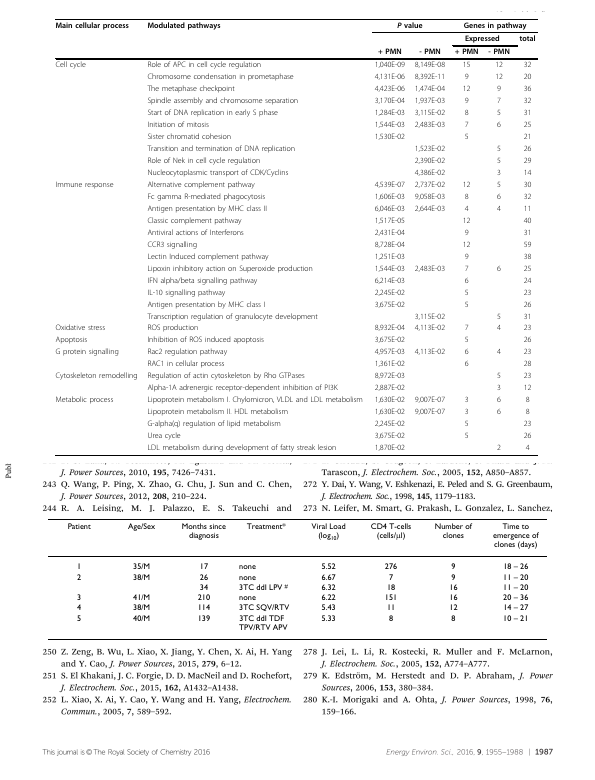borderless: (54, 17, 538, 455), (47, 517, 547, 639)
cell: (146, 395, 364, 405), (146, 383, 339, 393), (146, 443, 337, 453), (146, 371, 306, 381), (146, 312, 319, 321), (146, 96, 299, 106), (146, 264, 314, 273), (146, 144, 296, 154), (146, 168, 289, 178), (146, 407, 289, 417), (491, 521, 539, 550), (146, 419, 282, 429), (146, 73, 295, 82), (146, 108, 279, 118), (146, 204, 268, 214), (146, 192, 266, 202), (146, 156, 261, 166), (146, 252, 269, 261), (146, 180, 256, 190), (146, 300, 266, 309), (146, 336, 265, 345), (146, 61, 262, 70), (146, 276, 258, 285), (146, 216, 242, 226), (238, 613, 288, 632), (369, 520, 412, 542), (146, 84, 236, 94), (146, 228, 245, 237), (180, 521, 226, 540), (146, 132, 232, 142), (54, 371, 139, 381), (146, 347, 228, 357), (146, 359, 225, 369), (310, 521, 346, 542), (433, 521, 472, 540), (146, 288, 226, 297), (55, 21, 130, 30), (146, 21, 221, 30), (54, 347, 120, 357), (146, 120, 210, 130), (54, 180, 114, 190), (54, 395, 114, 405), (463, 21, 527, 30), (238, 603, 290, 613), (238, 582, 288, 592), (146, 324, 199, 333), (146, 240, 198, 249), (54, 324, 106, 333), (245, 521, 286, 531), (464, 34, 501, 44), (146, 431, 182, 441), (374, 84, 406, 94), (414, 84, 446, 94), (374, 96, 406, 106), (414, 96, 446, 106), (374, 108, 406, 118), (414, 108, 446, 118), (374, 120, 406, 130), (414, 120, 446, 130), (374, 132, 406, 142), (414, 144, 446, 154), (414, 156, 446, 166), (414, 168, 446, 178), (374, 180, 406, 190), (414, 180, 446, 190), (374, 192, 406, 202), (414, 192, 446, 202), (374, 204, 406, 214), (414, 204, 446, 214), (374, 216, 406, 226), (374, 347, 406, 357), (414, 347, 446, 357), (374, 359, 406, 369), (374, 371, 406, 381), (374, 383, 406, 393), (374, 395, 406, 405), (414, 395, 446, 405), (374, 407, 406, 417), (414, 407, 446, 417), (374, 419, 406, 429), (374, 431, 406, 441), (374, 443, 406, 453), (54, 336, 88, 345), (126, 521, 156, 531), (54, 61, 87, 70), (374, 61, 406, 70), (414, 61, 446, 70), (374, 73, 406, 82), (414, 73, 446, 82), (374, 228, 406, 237), (374, 240, 406, 249), (374, 252, 406, 261), (374, 264, 406, 273), (414, 264, 446, 273), (374, 276, 406, 285), (374, 288, 406, 297), (374, 300, 406, 309), (414, 312, 446, 321), (374, 324, 406, 333), (414, 324, 446, 333), (374, 336, 406, 345), (502, 562, 529, 572), (502, 572, 529, 582), (502, 593, 529, 603), (502, 603, 529, 613), (502, 613, 529, 623), (377, 47, 403, 57), (66, 521, 91, 531), (454, 47, 479, 57), (502, 583, 529, 592), (396, 21, 423, 30), (487, 47, 511, 57), (418, 47, 441, 57), (132, 562, 151, 572), (132, 572, 151, 582), (132, 593, 151, 603), (132, 603, 151, 613), (132, 613, 151, 623), (238, 562, 256, 572), (238, 572, 256, 582), (238, 593, 256, 603), (519, 34, 536, 44), (320, 562, 336, 572), (320, 572, 336, 582), (320, 593, 336, 603), (320, 603, 336, 613), (320, 613, 336, 623), (383, 562, 398, 572), (196, 593, 211, 603), (383, 593, 398, 603), (196, 603, 211, 613), (196, 613, 211, 623), (320, 583, 336, 592), (198, 562, 209, 572), (198, 572, 209, 582), (385, 603, 396, 613), (448, 593, 458, 603), (448, 603, 458, 613), (198, 583, 209, 592), (385, 583, 396, 592), (448, 583, 458, 592), (494, 61, 504, 70), (494, 73, 504, 82), (462, 84, 471, 94), (523, 84, 532, 94), (523, 96, 532, 106), (523, 108, 532, 118), (523, 120, 532, 130), (523, 132, 532, 142), (523, 144, 532, 154), (523, 156, 532, 166), (523, 168, 532, 178), (462, 180, 471, 190), (523, 180, 532, 190), (523, 192, 532, 202), (523, 204, 532, 214), (462, 216, 471, 226), (523, 216, 532, 226), (523, 347, 532, 357), (523, 359, 532, 369), (523, 371, 532, 381), (523, 383, 532, 393), (523, 419, 532, 429), (523, 431, 532, 441), (462, 61, 471, 70), (523, 61, 532, 70), (523, 73, 532, 82), (523, 228, 532, 237), (462, 240, 471, 249), (523, 240, 532, 249), (523, 252, 532, 261), (523, 264, 532, 273), (523, 276, 532, 285), (523, 288, 532, 297), (523, 300, 532, 309), (523, 312, 532, 321), (523, 324, 532, 333), (523, 336, 532, 345), (387, 572, 394, 582), (387, 613, 394, 623), (76, 562, 82, 572), (450, 562, 456, 572), (76, 572, 82, 582), (450, 572, 456, 582), (76, 593, 82, 603), (76, 603, 82, 613), (76, 613, 82, 623), (450, 613, 456, 623), (496, 84, 502, 94), (496, 96, 502, 106), (496, 108, 502, 118), (496, 120, 502, 130), (496, 144, 502, 154), (496, 156, 502, 166), (496, 168, 502, 178), (496, 180, 502, 190), (496, 192, 502, 202), (496, 204, 502, 214), (496, 347, 502, 357), (496, 371, 502, 381), (496, 383, 502, 393), (496, 395, 502, 405), (496, 407, 502, 417), (496, 443, 502, 453), (496, 264, 502, 273), (496, 312, 502, 321), (496, 324, 502, 333), (464, 96, 469, 106), (464, 108, 469, 118), (464, 120, 469, 130), (464, 132, 469, 142), (464, 192, 469, 202), (464, 204, 469, 214), (464, 347, 469, 357), (464, 359, 469, 369), (464, 395, 469, 405), (525, 395, 530, 405), (464, 407, 469, 417), (525, 407, 530, 417), (464, 419, 469, 429), (464, 431, 469, 441), (525, 443, 530, 453), (464, 73, 469, 82), (464, 228, 469, 237), (464, 252, 469, 261), (464, 264, 469, 273), (464, 276, 469, 285), (464, 288, 469, 297), (464, 300, 469, 309), (464, 324, 469, 333), (464, 336, 469, 345)
